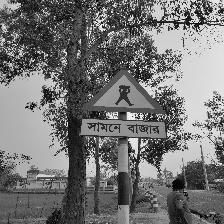Market-in-front: (79, 69, 169, 139)
